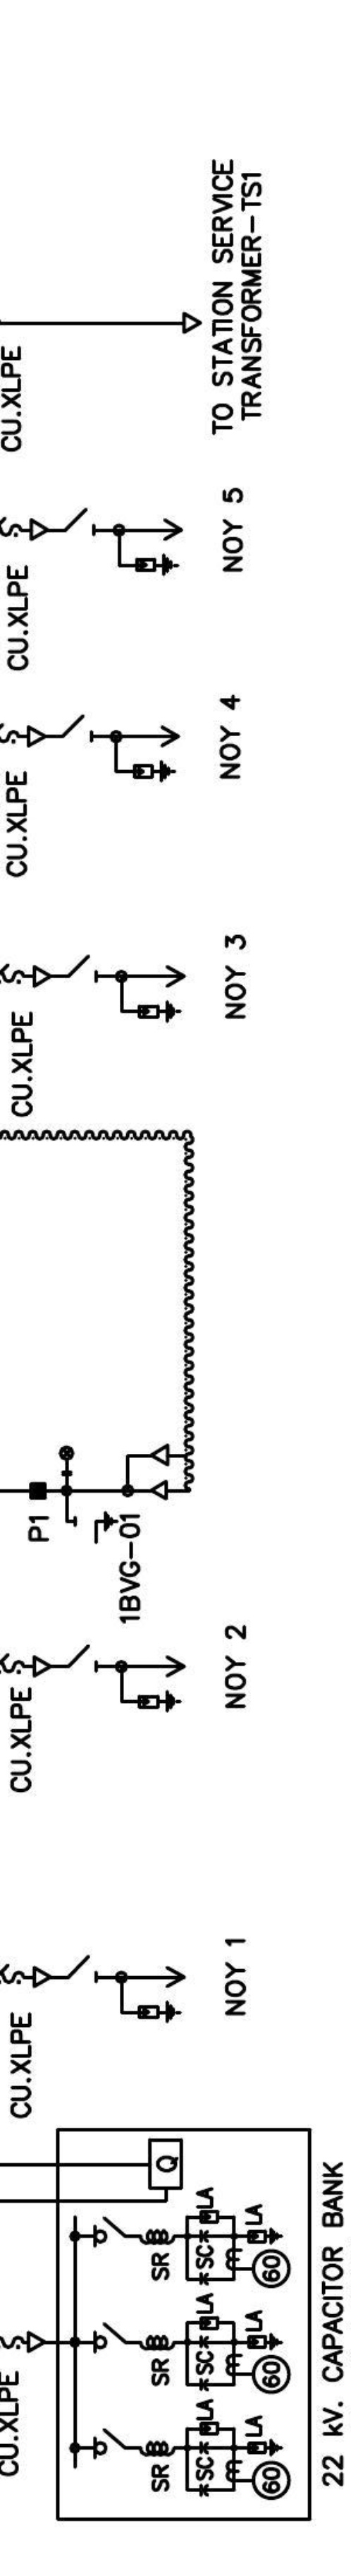22_cap_bank: (54, 2127, 313, 2522)
22_ds_la_out: (67, 1953, 187, 2024), (67, 1643, 187, 1713), (62, 713, 182, 784), (69, 953, 187, 1023), (66, 508, 184, 577)
22_gs: (72, 1510, 120, 1546)
22_ll: (57, 1444, 75, 1477)
Q: (148, 2137, 184, 2192)
terminator_double: (125, 1442, 171, 1502)
terminator_single: (31, 1965, 52, 1989), (180, 310, 202, 335), (31, 1654, 52, 1677), (26, 724, 48, 747), (26, 2330, 46, 2354), (33, 964, 52, 987), (30, 519, 49, 542)
